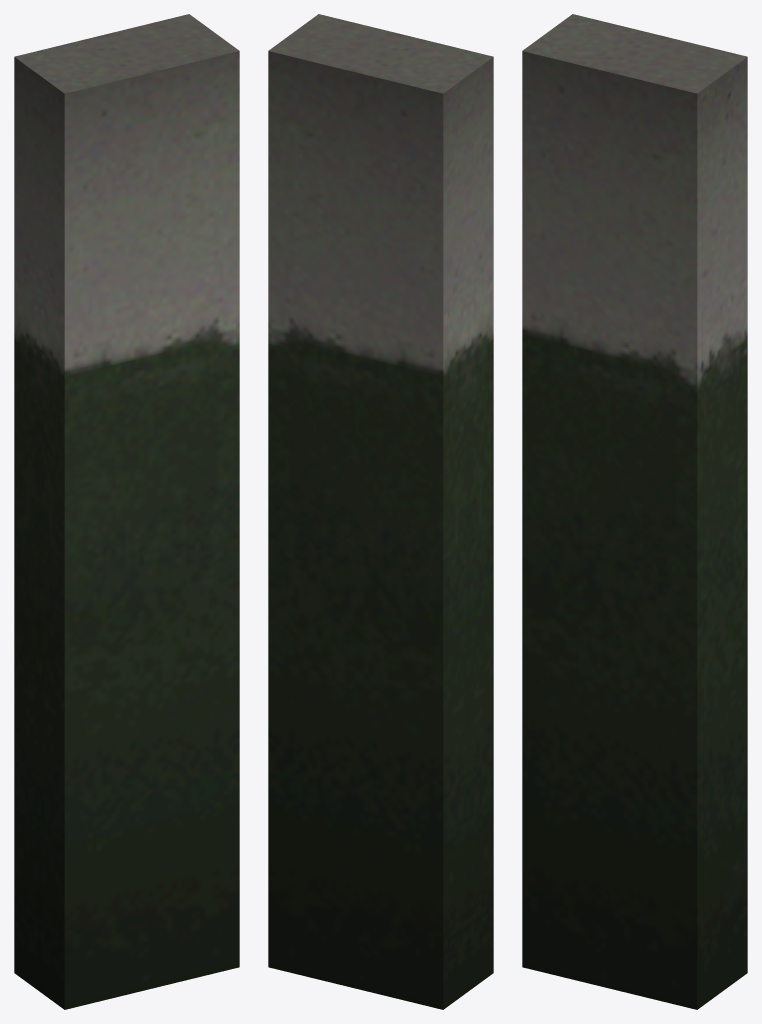
Rendered from wall_half.fbx.
3 views of the same model, side by side, from view 1: azimuth 30°, elevation 25°; view 2: azimuth 150°, elevation 25°; view 3: azimuth 330°, elevation 25° (orthographic).
Visible parts, largest first — view 1: wall_half; view 2: wall_half; view 3: wall_half.
Boxes of the visible parts, bbox=[...] form: wall_half: bbox=[14, 14, 239, 1009]; wall_half: bbox=[268, 14, 493, 1009]; wall_half: bbox=[522, 14, 747, 1009].
Size of the model in its own units: 50 by 250 by 25.
Materials: 1 (1 with a texture image).
